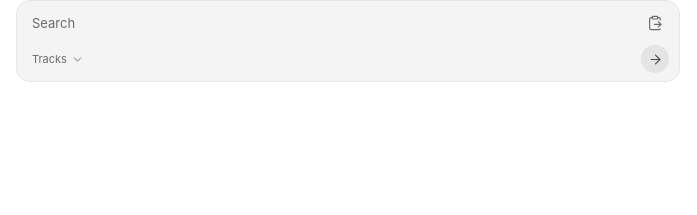
Scenario: DeezerPage playlists › offers artist, album, tracks and playlist
Click the dropdown named "Search type" at point(58, 59), box 32,47 -> 84,71
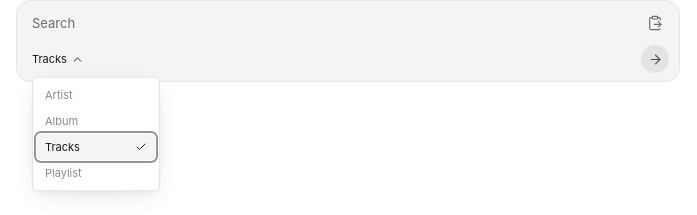
Now the options read "Artist", "Album", "Tracks", "Playlist", in this order, box 45,88 -> 73,102; 45,114 -> 78,128; 37,134 -> 155,160; 45,166 -> 82,180
